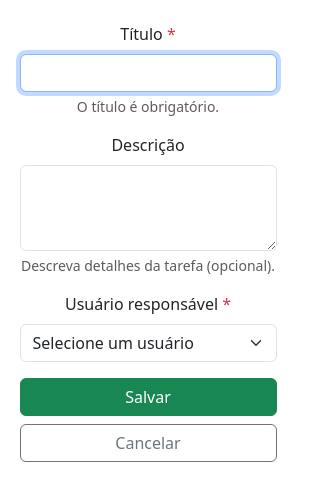
Scenario: TaskForm › deve exibir erro se usuário não for selecionado
Type "Nova tarefa" into the field labelled "Título *" at (148, 73), box [20, 54, 276, 92]
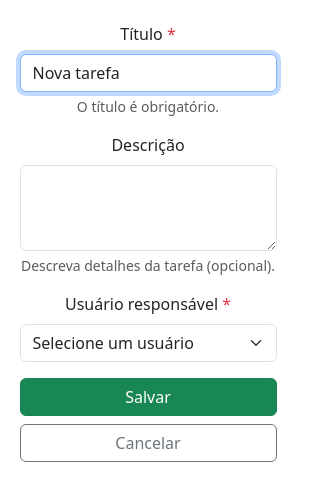
Click the button "Salvar" at (148, 397), box [20, 378, 276, 416]
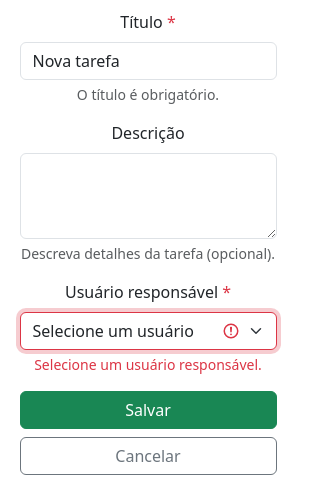
Result: the text "Selecione um usuário responsável." is shown at [20, 354, 276, 374]
